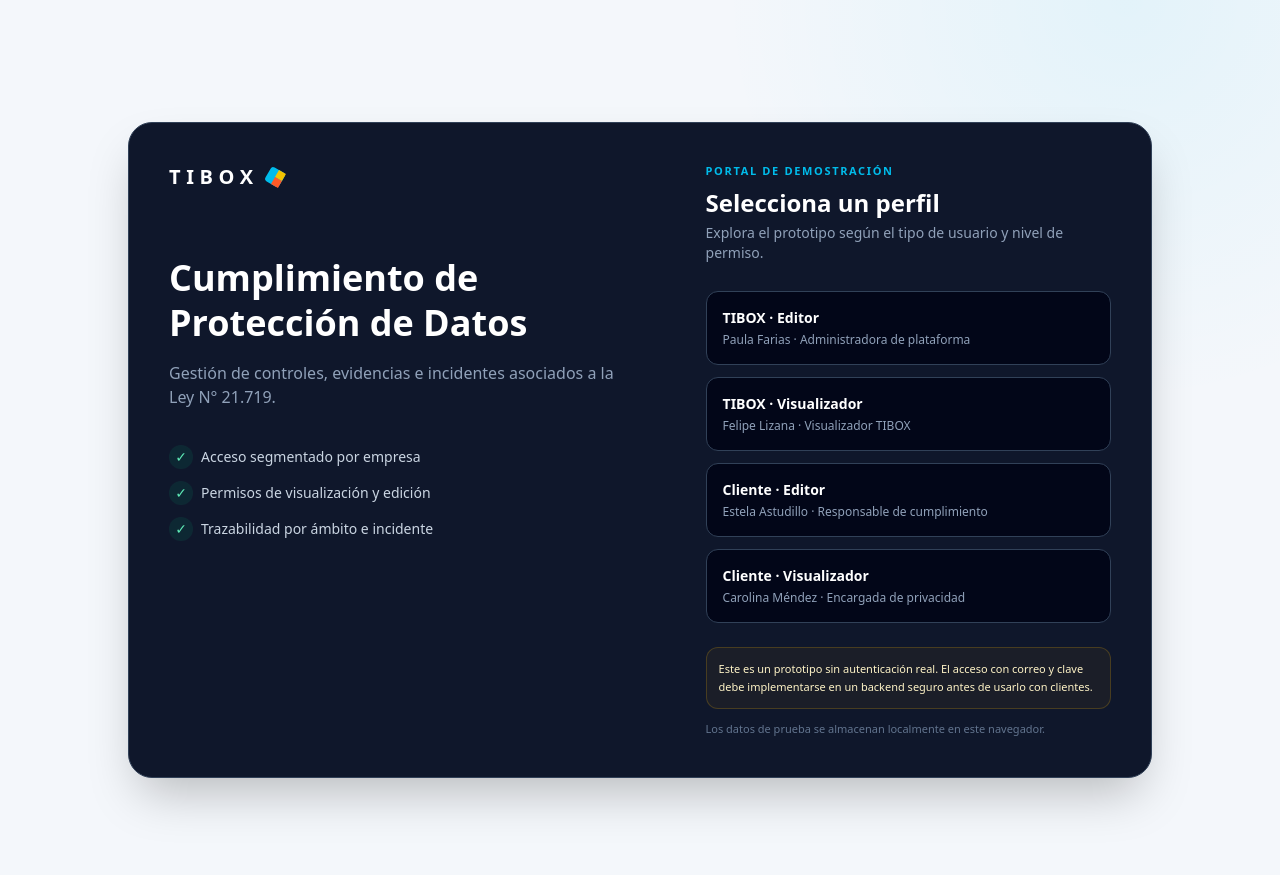
Test: Gestión de cumplimiento › limita el acceso del cliente a su empresa asociada
Click the button "Cliente · Editor" at (747, 490), box [706, 463, 1111, 537]
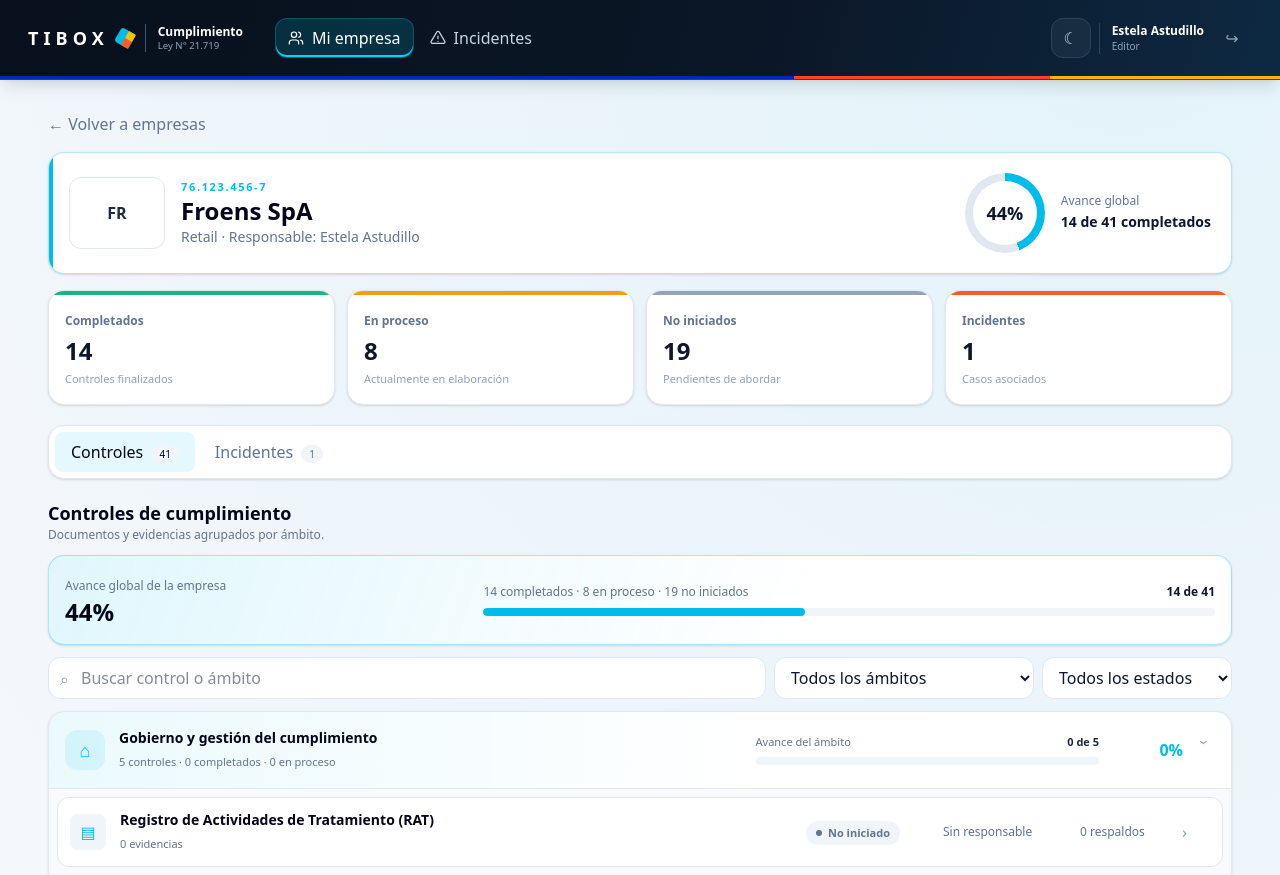
Now the heading "Froens SpA" is shown, box [181, 194, 312, 227]
